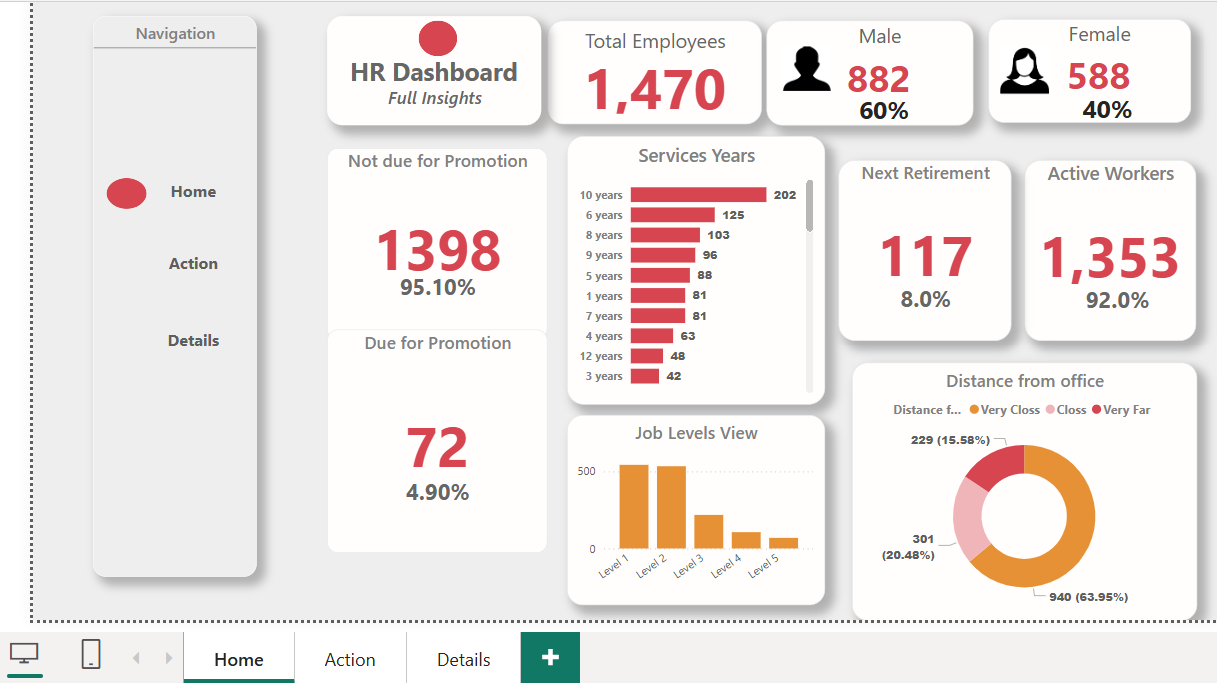

The dashboard page shown, as its layout file describes it:
{"tool":"powerbi","page":{"name":"Home","canvas":[1280,720],"ordinal":0},"visuals":[{"type":"card","title":"Total Employees","fields":{"Values":["Sheet1.Total Employee"]},"box":[555.4,72.9,231.5,111.7],"z":0},{"type":"card","title":"Male","fields":{"Values":["Sheet1.male_emp"]},"box":[791.8,72.9,223.5,113.3],"z":1000},{"type":"card","title":"Female","fields":{"Values":["Sheet1.Female_emp"]},"box":[1031.4,71.2,218.6,111.7],"z":2000},{"type":"clusteredBarChart","title":"Services Years","fields":{"Category":["Sheet1.Total working Years"],"Y":["Sum(Sheet1.EmployeeCount)"]},"box":[576.4,197.5,278.5,289.8],"z":3000},{"type":"clusteredColumnChart","title":"Job Levels View","fields":{"Y":["Sum(Sheet1.EmployeeCount)"],"Category":["Sheet1.Job Level"]},"box":[576.4,498.7,278.5,205.6],"z":4000},{"type":"donutChart","title":"Distance from office","fields":{"Category":["Sheet1.Distance from office"],"Y":["Sum(Sheet1.EmployeeCount)"]},"box":[884.1,442,372.4,278.5],"z":5000},{"type":"card","title":"Active Workers","fields":{"Values":["Sheet1.Active workers"]},"box":[1070,223.3,185,195],"z":6000},{"type":"card","title":"Next Retirement","fields":{"Values":["Sheet1.Next retreachment"]},"box":[870,223.3,186.7,195],"z":7000},{"type":"card","title":"Not due for Promotion","fields":{"Values":["Sheet1.Not_due"]},"box":[317.4,210.5,238,207.3],"z":8000},{"type":"card","title":"Due for Promotion","fields":{"Values":["Sheet1.Due for promotion"]},"box":[317.4,406.4,238,241.3],"z":9000},{"type":"card","fields":{"Values":["Sheet1.Male_percentage"]},"box":[884.1,153.8,68,32.4],"z":10000},{"type":"image","box":[803.1,95.5,64.8,58.3],"z":11000},{"type":"card","fields":{"Values":["Sheet1.female percentage"]},"box":[1127,152.2,64.8,32.4],"z":12000},{"type":"image","box":[1031.4,95.5,77.7,63.1],"z":13000},{"type":"shape","box":[317.4,68,231.5,118.2],"z":14000},{"type":"textbox","title":"Full Insights","box":[333.6,142.5,200.8,27.5],"z":15000},{"type":"shape","box":[416.1,72.9,42.1,38.9],"z":16000},{"type":"actionButton","box":[123.3,236.7,100,40],"z":17000},{"type":"actionButton","box":[123.3,313.3,100,40],"z":18000},{"type":"actionButton","box":[123.3,398.3,100,38.3],"z":19000},{"type":"shape","title":"Navigation","box":[65,68.3,176.7,605],"z":20000},{"type":"card","fields":{"Values":["Sheet1.Percentage_active workers"]},"box":[1120,341.7,100,66.7],"z":21000},{"type":"card","fields":{"Values":["Sheet1.Percentage of retirement"]},"box":[931.7,348.3,65,51.7],"z":22000},{"type":"card","fields":{"Values":["Sheet1.percent_due for promotion"]},"box":[396.7,550,80,63.3],"z":23000},{"type":"card","fields":{"Values":["Sheet1.percent_not due"]},"box":[386.7,331.7,100,58.3],"z":24000},{"type":"shape","box":[80,243.3,43.3,33.3],"z":25000}]}

Visuals, with their boxes on the page's 1280x720 design canvas (x1, y1, x2, y2). These are canvas units, not pixel positions in the 1217x683 screenshot, which may show the page scaled, cropped or inside an application window:
"Total Employees" card: (555,73,787,185)
"Male" card: (792,73,1015,186)
"Female" card: (1031,71,1250,183)
"Services Years" clusteredBarChart: (576,198,855,487)
"Job Levels View" clusteredColumnChart: (576,499,855,704)
"Distance from office" donutChart: (884,442,1256,720)
"Active Workers" card: (1070,223,1255,418)
"Next Retirement" card: (870,223,1057,418)
"Not due for Promotion" card: (317,210,555,418)
"Due for Promotion" card: (317,406,555,648)
card - Sheet1.Male_percentage: (884,154,952,186)
image: (803,96,868,154)
card - Sheet1.female percentage: (1127,152,1192,185)
image: (1031,96,1109,159)
shape: (317,68,549,186)
"Full Insights" textbox: (334,142,534,170)
shape: (416,73,458,112)
actionButton: (123,237,223,277)
actionButton: (123,313,223,353)
actionButton: (123,398,223,437)
"Navigation" shape: (65,68,242,673)
card - Sheet1.Percentage_active workers: (1120,342,1220,408)
card - Sheet1.Percentage of retirement: (932,348,997,400)
card - Sheet1.percent_due for promotion: (397,550,477,613)
card - Sheet1.percent_not due: (387,332,487,390)
shape: (80,243,123,277)
